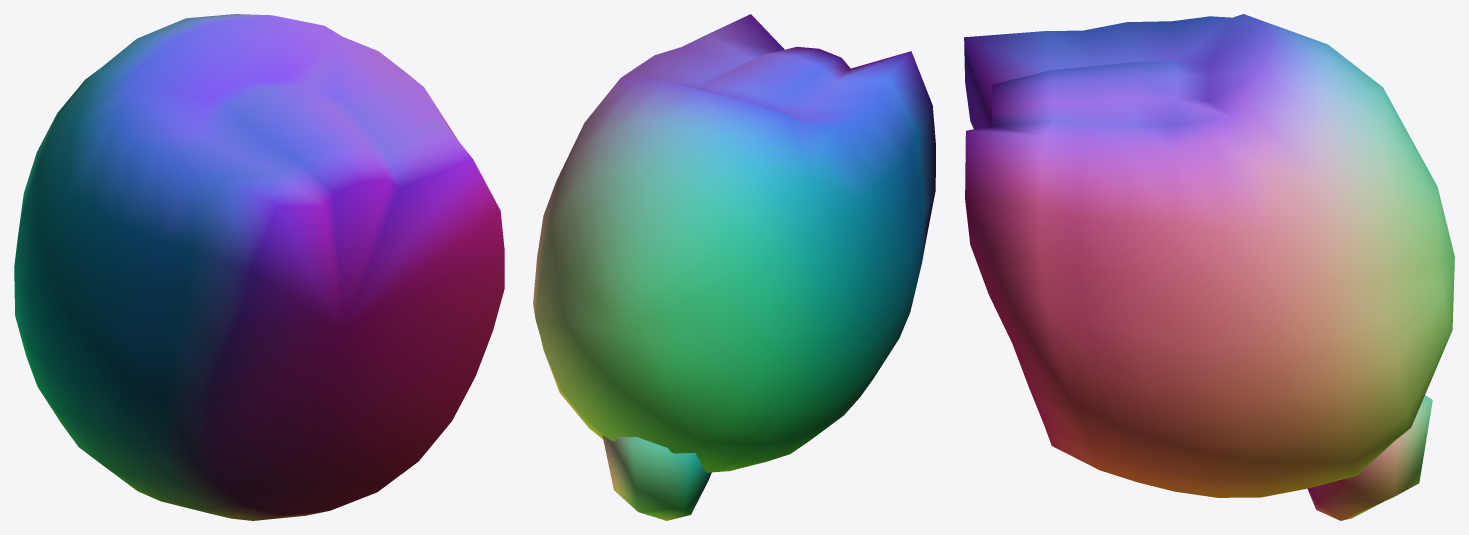
Rendered from SM_Mon_Unburied_Att_Hood.fbx.
3 renders of one model, left to right at view 1: azimuth 30°, elevation 25°; view 2: azimuth 150°, elevation 25°; view 3: azimuth 270°, elevation 25°, orthographic. The views are drawn at different scales.
Visible parts, largest first — view 1: SM_Mon_Unburied_Att_Hood; view 2: SM_Mon_Unburied_Att_Hood; view 3: SM_Mon_Unburied_Att_Hood.
Boxes of the visible parts, left/top/right/bottom form: SM_Mon_Unburied_Att_Hood: left=14, top=14, right=504, bottom=520; SM_Mon_Unburied_Att_Hood: left=533, top=14, right=935, bottom=520; SM_Mon_Unburied_Att_Hood: left=964, top=14, right=1454, bottom=520.
Bounding box in the file's own units: 0.2422 × 0.3017 × 0.2812.
